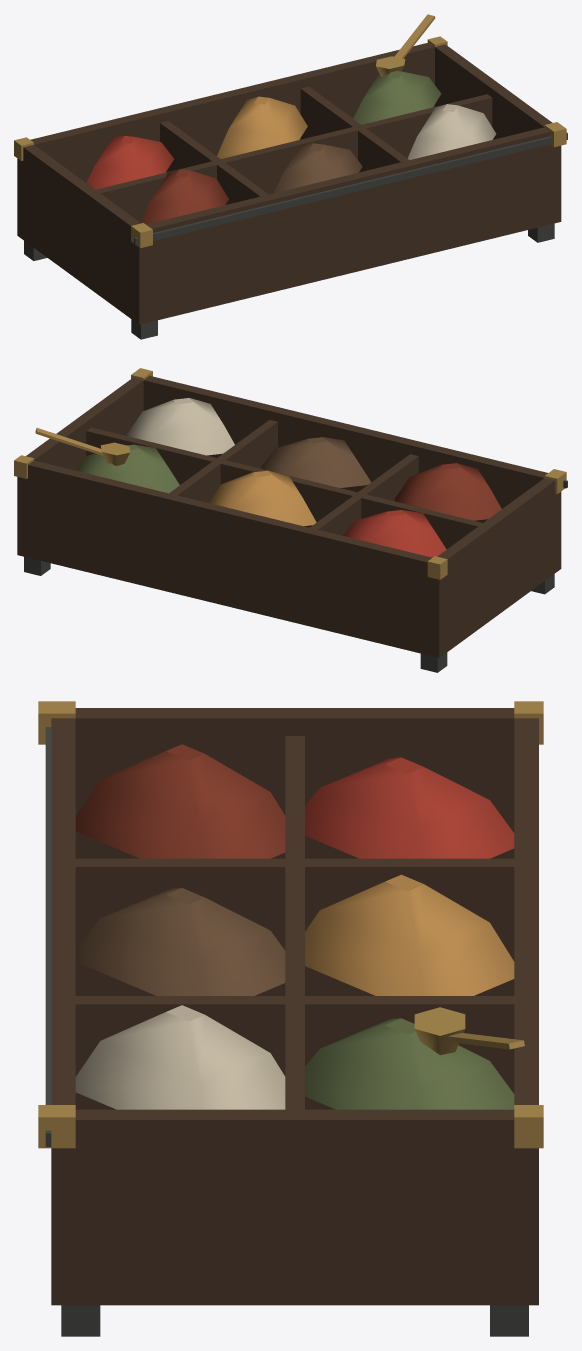
File: goods_bins.glb
The picture shows the model from 3 angles, top to bottom: view 1: azimuth 30°, elevation 25°; view 2: azimuth 150°, elevation 25°; view 3: azimuth 270°, elevation 25°; orthographic projection. The views are drawn at different scales.
Visible parts, largest first — view 1: goods_bins; view 2: goods_bins; view 3: goods_bins.
Part boxes in pixels (x1,y1,x2,y2): goods_bins: (14,14,567,339); goods_bins: (14,368,567,672); goods_bins: (38,701,543,1336).
Bounding box in the file's own units: 2.05 × 0.6457 × 1.04.
